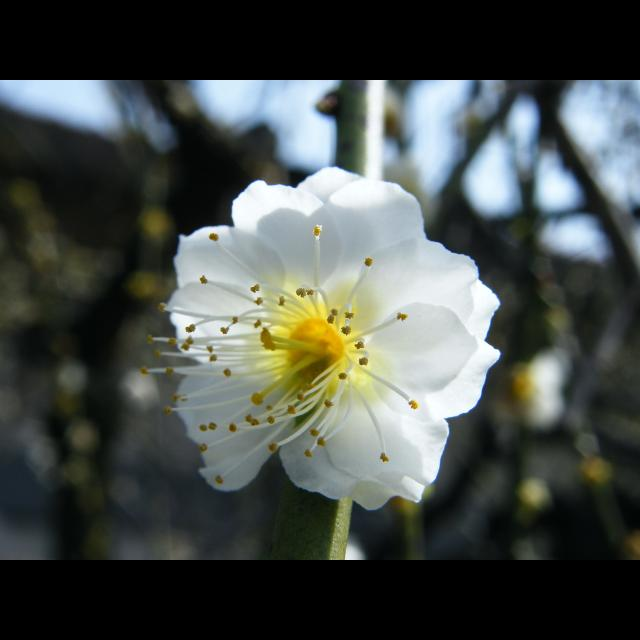Flower: (161, 174, 487, 526)
